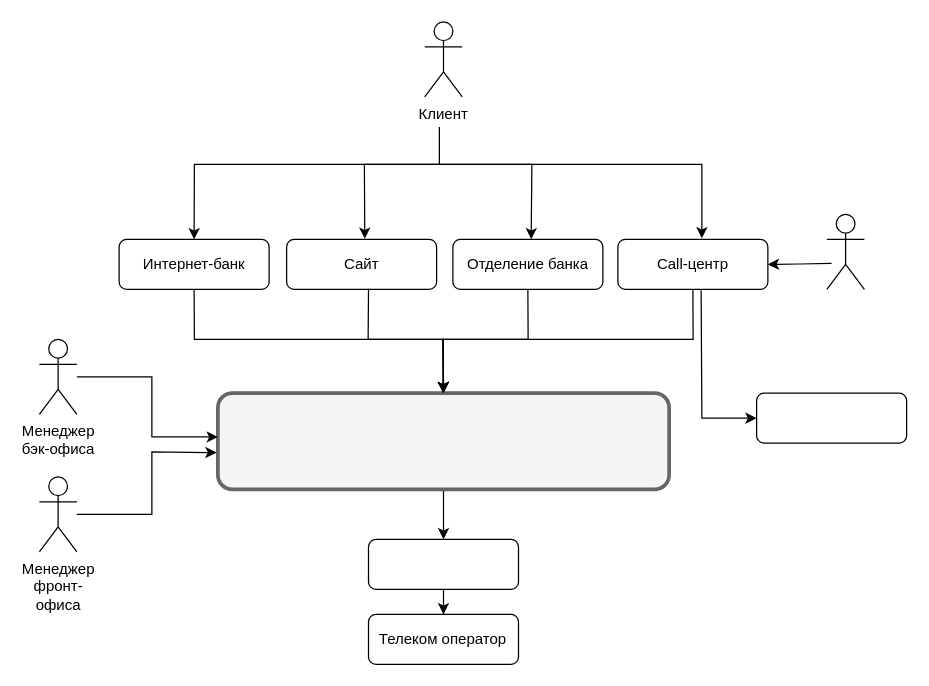
The diagram is 929 pixels wide and 686 high, and some of its shapes have lost their labels. Here are the shapes that lost their labels. From the top down, the centre of each, then its label:
At point 845,251: "Оператор call-центра".
At point 831,417: "Партнерский call-центр".
At point 442,441: "Автоматизированная банковская система".
At point 442,563: "СМС-шлюз".
